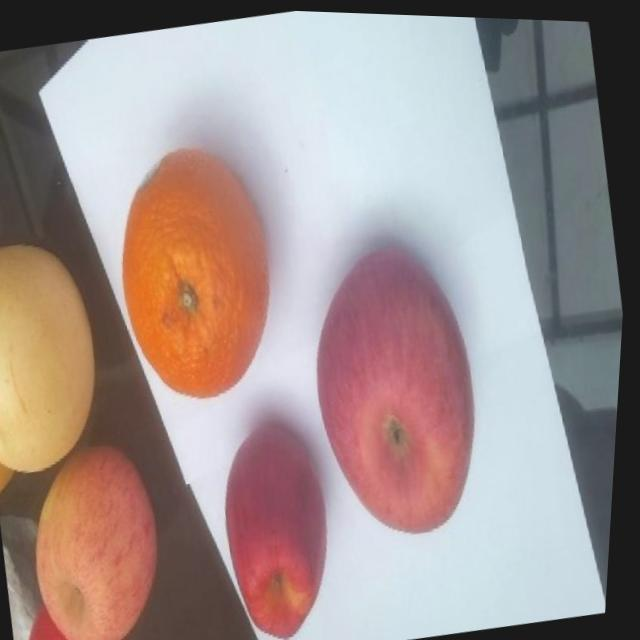Apple: (291, 230, 508, 548), (18, 432, 187, 640), (209, 411, 358, 640), (21, 590, 128, 640)
Orange: (97, 132, 300, 412)
